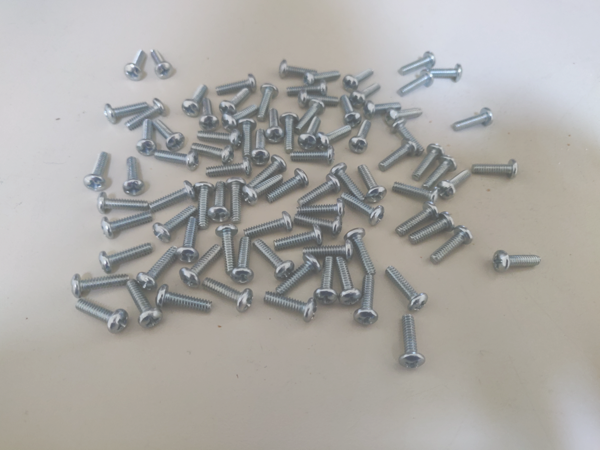shortscrew: (75, 298, 130, 335), (385, 266, 428, 312), (137, 245, 179, 291), (179, 245, 223, 288), (277, 253, 321, 295), (127, 279, 163, 330), (253, 239, 295, 282), (202, 278, 254, 312), (430, 225, 474, 264), (156, 284, 213, 314), (264, 291, 317, 323), (99, 243, 153, 274), (153, 206, 198, 243), (395, 201, 440, 237), (409, 211, 456, 245), (70, 273, 130, 298), (149, 180, 197, 211), (344, 229, 376, 275), (266, 169, 309, 203), (398, 315, 425, 369), (341, 193, 385, 226), (298, 174, 342, 207), (330, 164, 367, 202), (101, 212, 153, 239), (244, 211, 294, 238), (274, 224, 323, 251), (126, 98, 167, 130), (336, 258, 363, 306), (379, 139, 418, 172), (354, 275, 379, 326), (215, 224, 239, 277), (422, 155, 458, 190), (390, 118, 424, 155), (248, 155, 287, 187), (242, 175, 283, 205), (230, 237, 255, 285), (293, 214, 343, 238), (413, 143, 445, 180), (314, 257, 338, 306), (98, 193, 150, 215), (358, 164, 387, 203), (493, 250, 542, 273), (303, 240, 354, 262), (154, 148, 200, 172), (177, 217, 200, 264), (104, 101, 149, 125), (471, 158, 519, 180), (194, 182, 216, 230), (153, 119, 185, 152), (83, 151, 109, 191), (190, 143, 235, 166), (207, 156, 252, 179), (295, 99, 325, 133), (438, 169, 472, 199), (392, 182, 440, 203), (296, 198, 345, 218), (398, 69, 434, 96), (222, 104, 258, 131), (452, 108, 494, 131), (208, 181, 231, 223), (225, 178, 246, 224), (315, 124, 352, 150), (399, 51, 436, 76), (290, 145, 336, 165), (216, 74, 256, 97), (197, 128, 242, 148), (220, 89, 251, 118), (182, 84, 208, 118), (123, 157, 145, 197), (297, 90, 340, 110), (298, 116, 322, 151), (257, 84, 279, 122), (237, 118, 257, 159), (350, 83, 381, 109), (349, 120, 372, 155), (363, 100, 402, 120), (342, 68, 373, 93), (136, 119, 156, 157), (280, 60, 318, 79), (286, 80, 328, 97), (251, 129, 270, 166), (341, 95, 362, 128), (151, 49, 174, 79), (199, 98, 219, 132), (124, 49, 145, 81), (427, 64, 462, 83), (384, 107, 423, 124), (304, 71, 341, 86)
